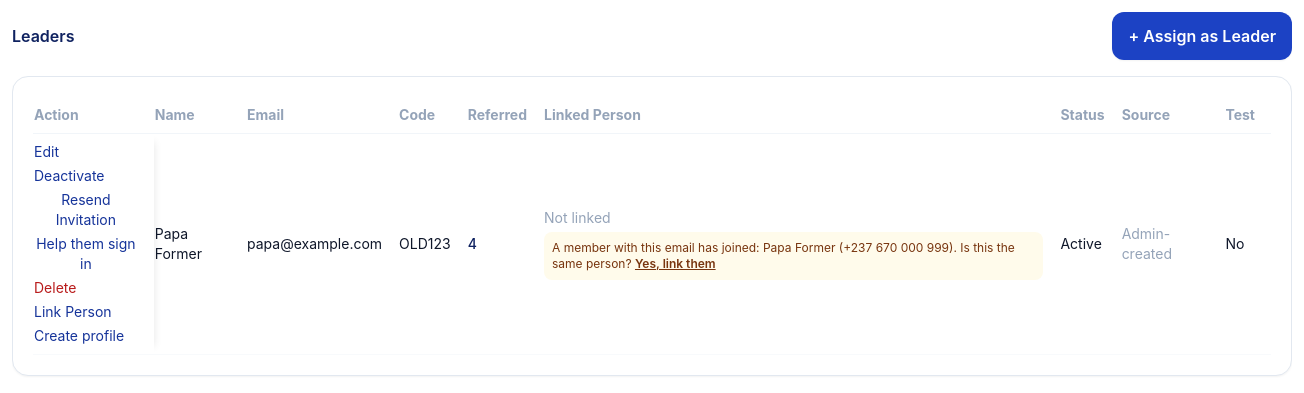
Test: A former leader who joined as a member › shows the admin the member who joined with the leader's email and links them with one tap
Check: the element with test id "suggested-lead7" shows "A member with this email has joined: Papa Former (+237 670 000 999)", box [552,240,1015,271]
Click the button "Yes, link them": (675, 264) [635,256,716,272]
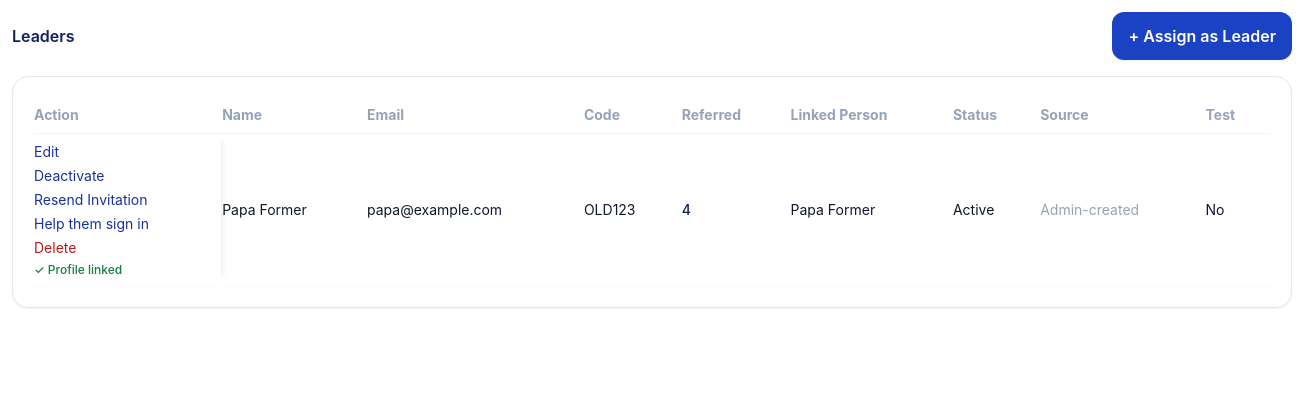
Check: the element with test id "suggested-lead7" is gone
